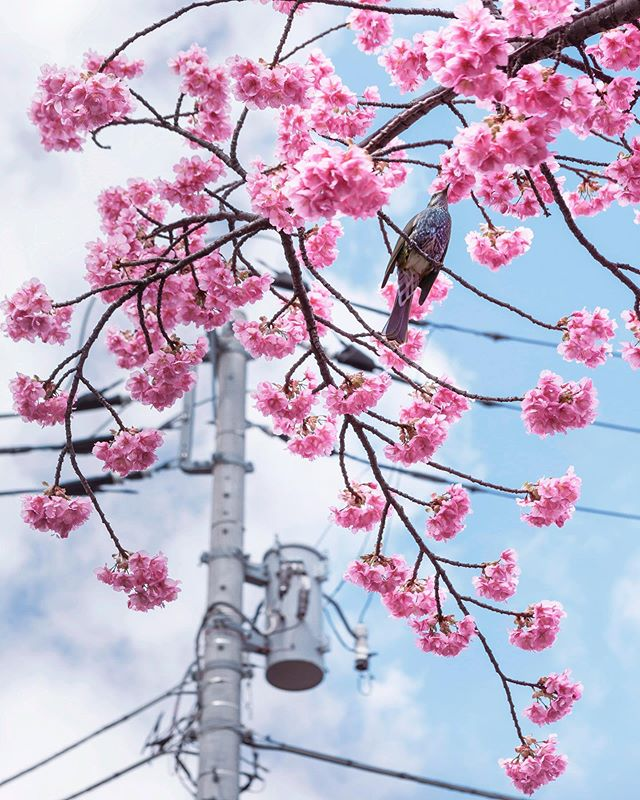animal: (383, 178, 462, 352)
power pole: (153, 319, 329, 778)
tree: (116, 1, 640, 716)
